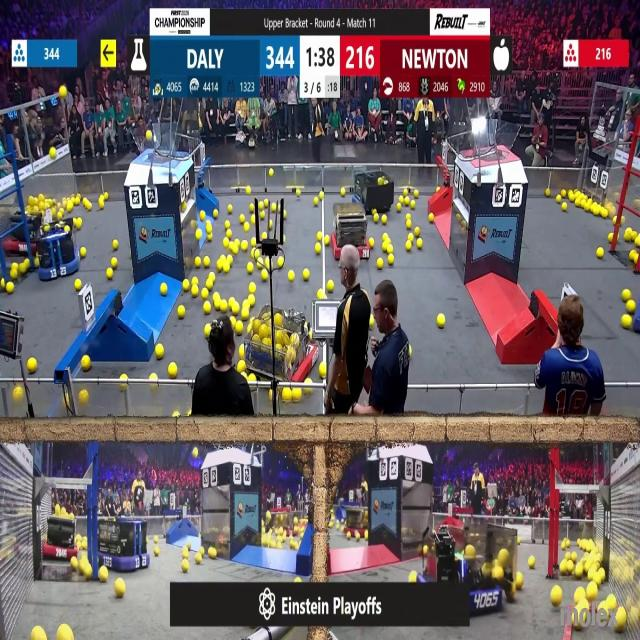ball_airborne: (61, 88, 68, 99), (146, 131, 152, 142), (49, 146, 55, 156)
ball_ground: (617, 612, 627, 633), (552, 587, 562, 607), (59, 626, 73, 640), (574, 589, 585, 603), (115, 582, 124, 599), (12, 386, 22, 401), (516, 572, 524, 589), (81, 355, 90, 370), (588, 586, 597, 601), (32, 628, 44, 639), (169, 362, 178, 376), (595, 570, 604, 584), (319, 362, 327, 377), (29, 357, 37, 372), (100, 567, 108, 582), (623, 315, 632, 328), (627, 302, 636, 315), (82, 566, 91, 579), (22, 261, 31, 274), (177, 306, 185, 320), (155, 345, 163, 359), (607, 596, 615, 610), (283, 388, 291, 402), (630, 251, 639, 263), (292, 388, 300, 401), (236, 321, 244, 334), (574, 565, 582, 578), (567, 562, 575, 575), (204, 303, 212, 315), (242, 309, 250, 321), (204, 324, 212, 336), (233, 304, 241, 316), (71, 557, 79, 569), (592, 204, 600, 216), (439, 314, 446, 327), (560, 562, 567, 575), (410, 571, 418, 582), (623, 289, 631, 300), (209, 549, 217, 560), (6, 282, 13, 294), (239, 360, 246, 372), (242, 241, 250, 251), (193, 256, 200, 267), (190, 286, 197, 297), (528, 557, 535, 568), (597, 248, 604, 259), (220, 302, 227, 313), (162, 283, 168, 295), (182, 560, 188, 572), (249, 282, 255, 294), (278, 256, 284, 268), (248, 295, 255, 305), (378, 258, 385, 268), (73, 218, 80, 228), (625, 232, 632, 242), (227, 296, 234, 306), (601, 209, 608, 219), (588, 570, 595, 580), (75, 280, 81, 291), (304, 270, 310, 281), (204, 256, 210, 267), (326, 281, 332, 292), (263, 271, 269, 282), (183, 280, 189, 291), (111, 257, 117, 268), (316, 243, 322, 254), (194, 554, 200, 565), (316, 233, 323, 242), (107, 269, 113, 279), (203, 288, 209, 298), (388, 254, 394, 264), (288, 272, 294, 282), (248, 264, 254, 274), (417, 239, 423, 249), (194, 231, 200, 241), (407, 242, 413, 252), (153, 545, 159, 555), (318, 289, 324, 299), (10, 272, 16, 282), (266, 256, 271, 268), (151, 371, 157, 381), (240, 348, 246, 358), (371, 213, 377, 223), (382, 242, 388, 252), (269, 219, 275, 229), (585, 600, 591, 610), (207, 280, 214, 288), (253, 250, 260, 258), (249, 374, 256, 382), (244, 222, 250, 231), (182, 551, 188, 560), (223, 265, 229, 274), (216, 263, 222, 272), (225, 231, 231, 240), (250, 214, 256, 223), (406, 199, 412, 208), (213, 293, 219, 302), (571, 553, 577, 562), (608, 234, 613, 244), (251, 238, 256, 248), (112, 240, 117, 250), (368, 318, 373, 328), (388, 244, 393, 254), (423, 544, 428, 554), (324, 236, 329, 246), (190, 278, 197, 285), (428, 214, 434, 222), (222, 240, 228, 248), (209, 273, 215, 281), (226, 255, 232, 263), (382, 216, 388, 224), (407, 220, 413, 228), (341, 188, 347, 196), (11, 264, 17, 272), (263, 233, 269, 241), (246, 186, 252, 194), (81, 540, 87, 548), (258, 202, 264, 210), (408, 212, 414, 220), (574, 200, 580, 208), (368, 239, 373, 248), (80, 248, 85, 257), (240, 214, 245, 223), (234, 246, 239, 255), (100, 201, 105, 210), (562, 203, 567, 212), (396, 204, 401, 213), (201, 211, 206, 220), (88, 202, 93, 211), (272, 204, 277, 213), (568, 190, 573, 199), (256, 262, 261, 271), (409, 234, 415, 241), (120, 375, 126, 382), (269, 170, 275, 177), (262, 211, 267, 219), (213, 210, 218, 218), (314, 199, 319, 207), (544, 188, 549, 196), (383, 234, 388, 242), (104, 192, 109, 200), (153, 535, 158, 543), (319, 191, 324, 199), (557, 194, 562, 202), (75, 198, 80, 206), (265, 201, 270, 209), (294, 576, 300, 582), (364, 531, 368, 540), (283, 210, 287, 219), (416, 226, 420, 235), (306, 379, 312, 385), (250, 204, 254, 213), (0, 279, 4, 288), (636, 238, 640, 247), (227, 206, 232, 213), (224, 221, 229, 228), (207, 225, 212, 232), (415, 190, 420, 197), (412, 201, 416, 209), (208, 234, 212, 242), (356, 532, 360, 540), (562, 188, 566, 196), (612, 216, 616, 223), (236, 240, 240, 247), (347, 532, 351, 539), (561, 542, 565, 549), (202, 546, 206, 552), (295, 189, 299, 195), (283, 236, 286, 244)
goal: (465, 120, 521, 160), (128, 133, 187, 160)
robot_blue: (436, 518, 524, 616), (96, 517, 150, 572), (34, 224, 79, 281), (351, 166, 394, 214)
robot_red: (245, 310, 317, 383), (332, 197, 371, 261), (45, 505, 79, 559)
